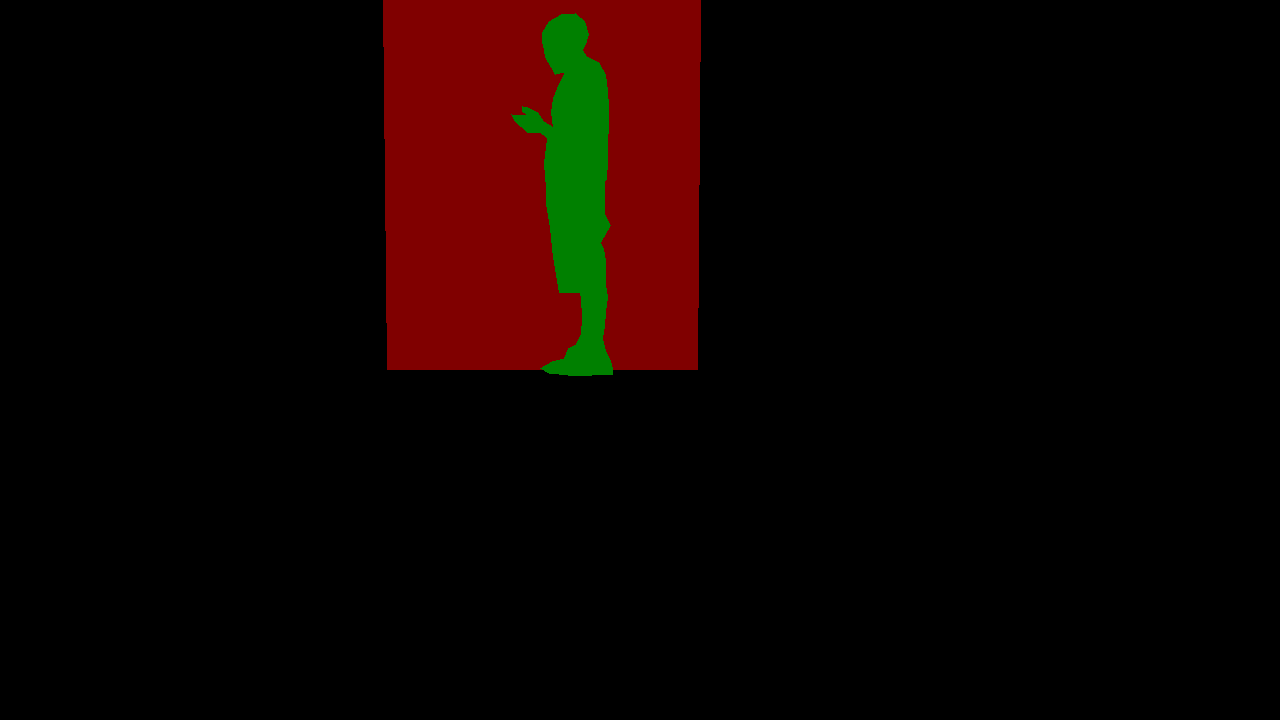door: (383, 0, 700, 369)
person: (511, 13, 612, 375)
